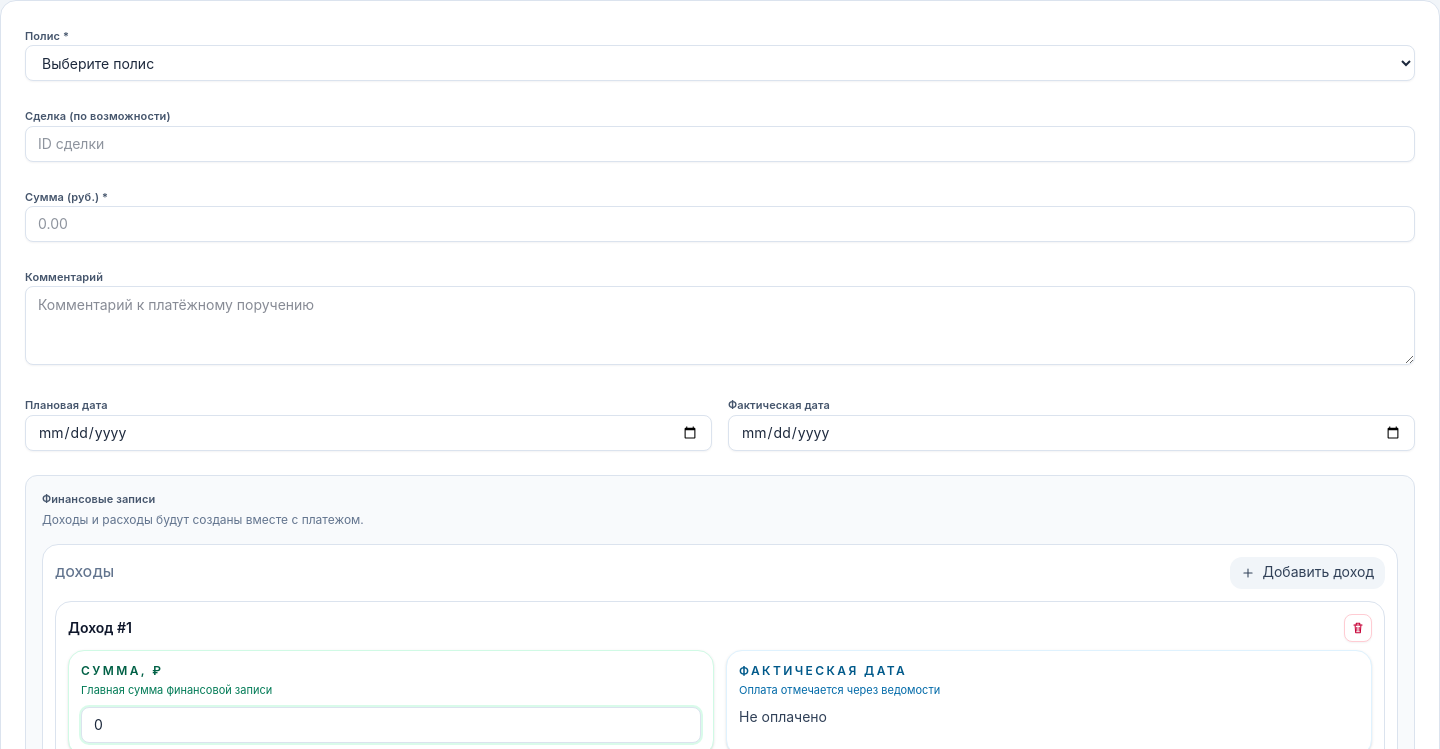
Test: AddPaymentForm › suppresses foreign defaults and restores them when another policy is selected
Select "POL-001 — Ипотека" in the dropdown labelled "Полис *": (720, 63) top-left (25, 45), bottom-right (1415, 81)
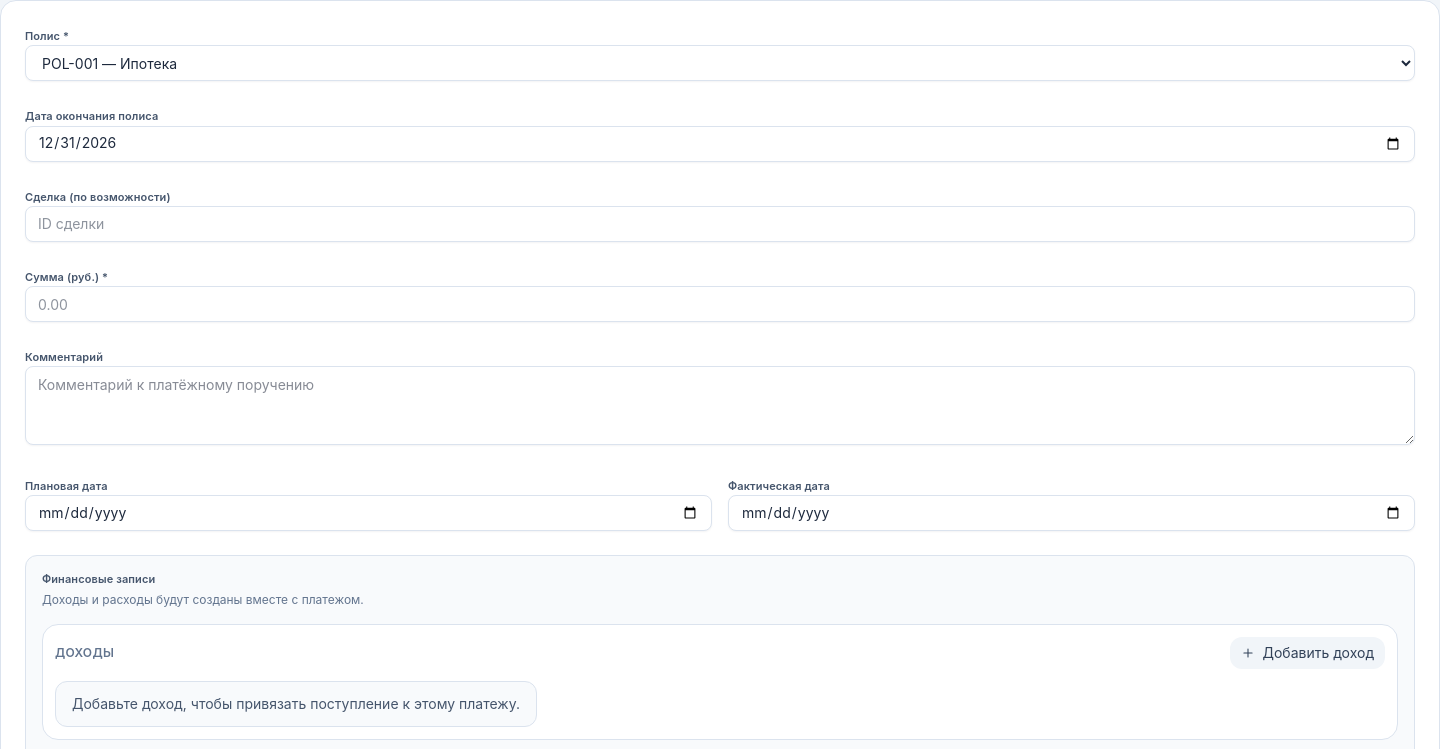
Expected: the text "Расход #1" is not shown
Expected: the text "Доход #1" is gone
Select "POL-001 — Ипотека" in the dropdown labelled "Полис *": (720, 63) top-left (25, 45), bottom-right (1415, 81)
(page scrolled)
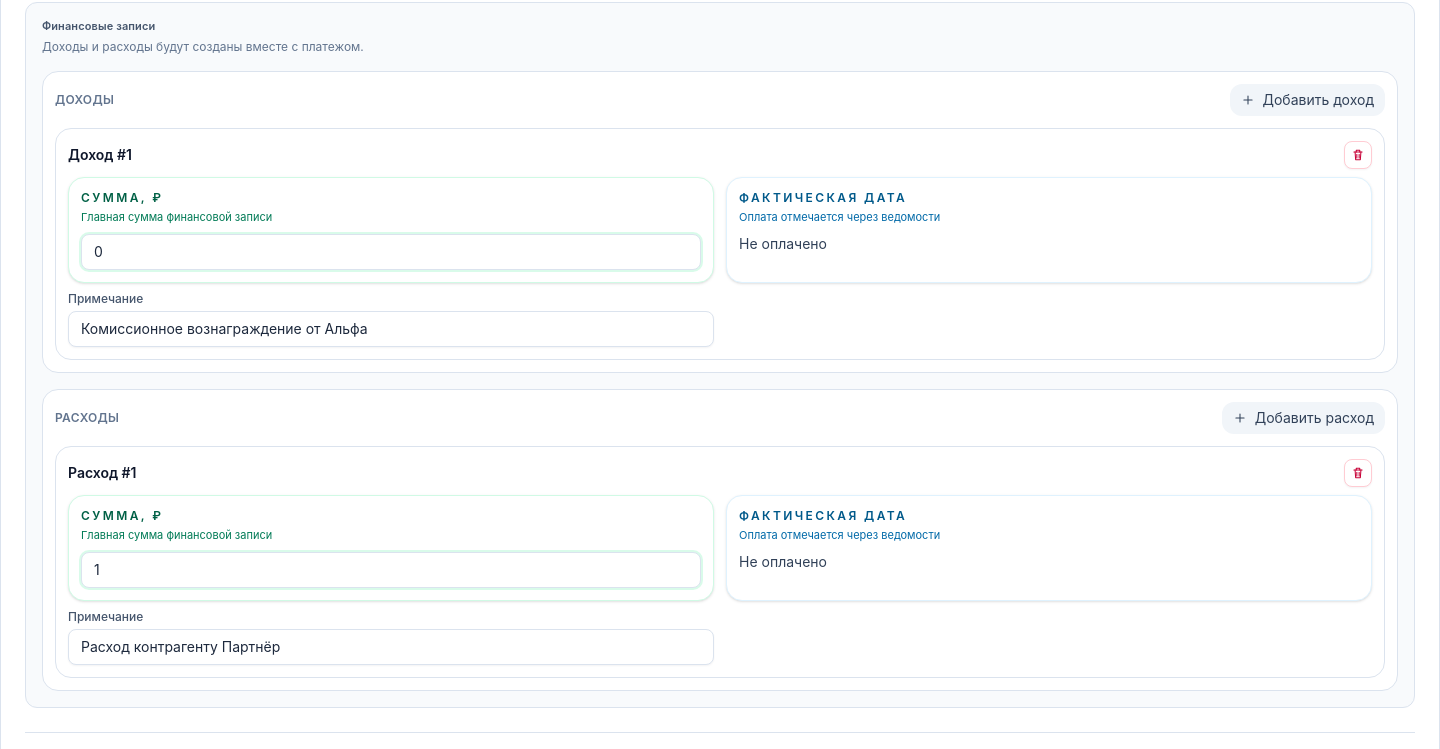
Expected: the 1st field showing "Комиссионное вознаграждение от Альфа" is shown, top-left (68, 311), bottom-right (714, 347)
Expected: the 2nd field showing "Расход контрагенту Партнёр" is shown, top-left (68, 629), bottom-right (714, 665)
